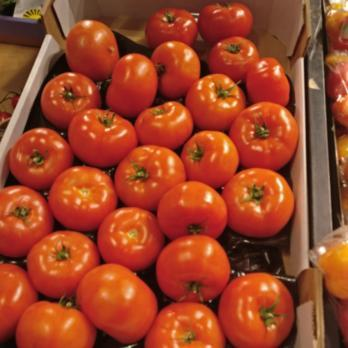Tomato: (56, 3, 291, 348), (6, 127, 68, 348)
